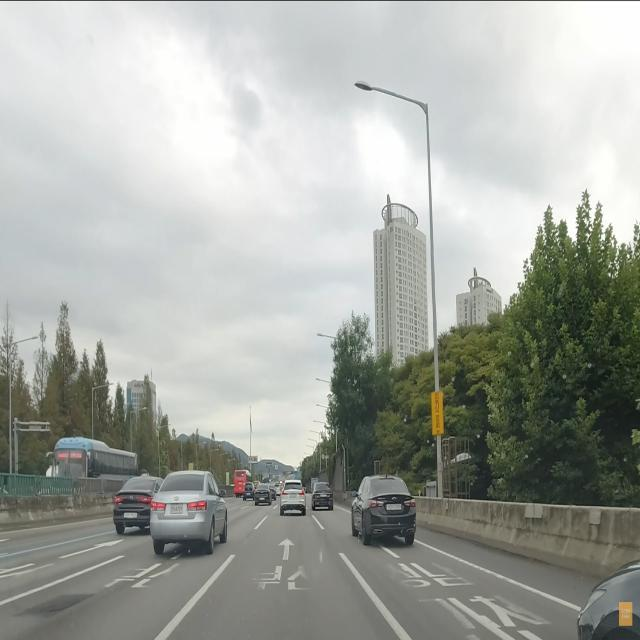forward: (215, 530, 362, 575)
